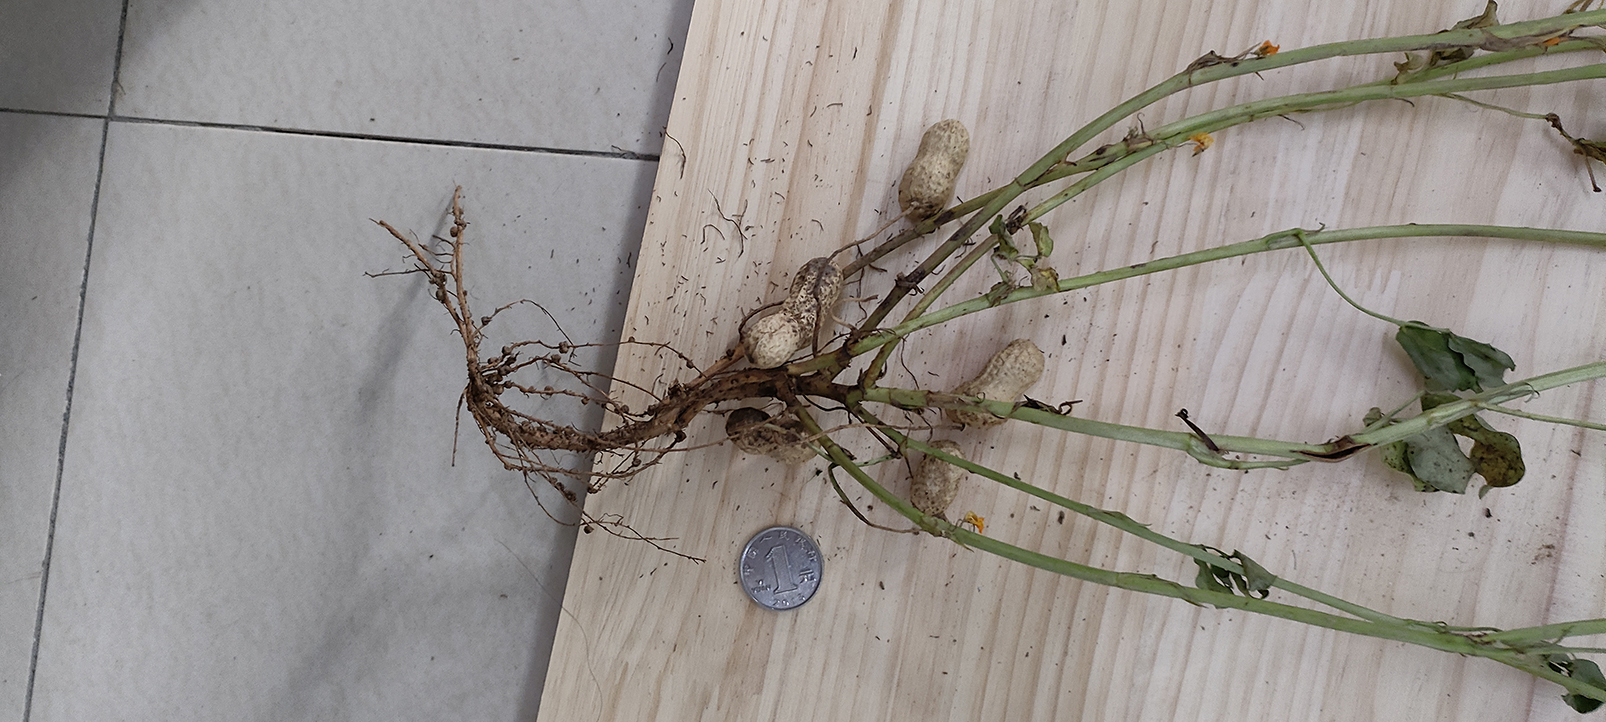h: (741, 256, 845, 368), (945, 339, 1045, 429), (898, 119, 970, 220)
l: (726, 407, 820, 464), (911, 436, 968, 514)
